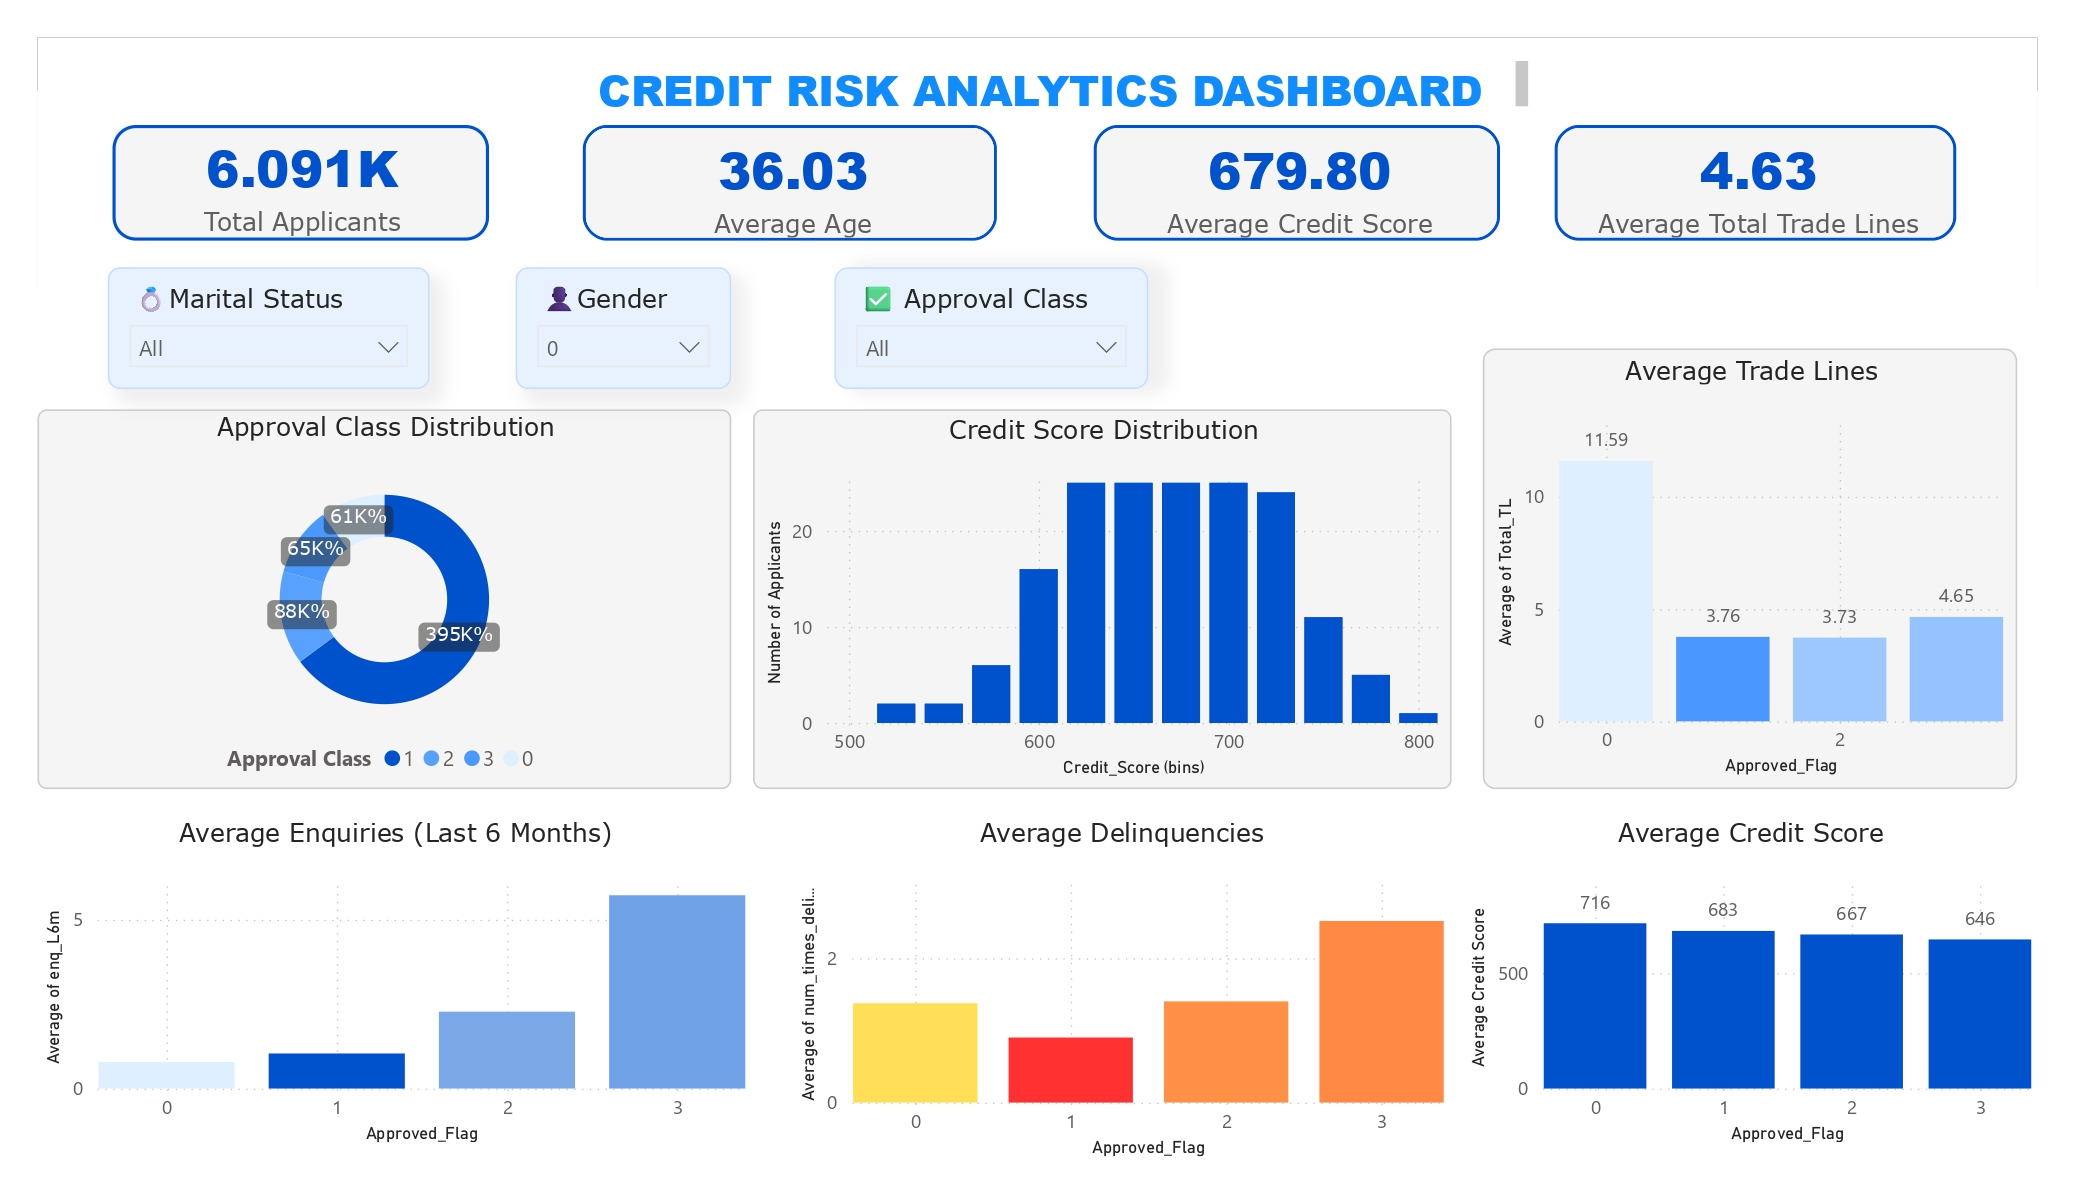

What the dashboard file says about the page in this screenshot:
{"tool":"powerbi","page":{"name":"Page 1","canvas":[1280,720],"ordinal":0},"visuals":[{"type":"cardVisual","fields":{"Data":["credit_risk_processed.Total Applicants"]},"box":[30.8,38.9,275.3,108.5],"z":0},{"type":"cardVisual","fields":{"Data":["credit_risk_processed.Average Credit Score"]},"box":[659,38.9,294.7,108.5],"z":1000},{"type":"cardVisual","fields":{"Data":["credit_risk_processed.Average Age"]},"box":[331.9,38.9,299.6,108.5],"z":2000},{"type":"cardVisual","fields":{"Data":["credit_risk_processed.Average Total Trade Lines"]},"box":[953.7,38.9,291.5,108.5],"z":3000},{"type":"donutChart","title":"Approval Class Distribution","fields":{"Category":["credit_risk_processed.Approved_Flag"],"Y":["credit_risk_processed.Applicant Count"]},"box":[0,238,443.7,242.9],"z":4000},{"type":"clusteredColumnChart","title":"Credit Score Distribution","fields":{"Category":["credit_risk_processed.Credit_Score (bins)"],"Y":["Count(credit_risk_processed.Credit_Score)"]},"box":[471.2,238,446.9,242.9],"z":5000},{"type":"clusteredColumnChart","title":"Average Trade Lines","fields":{"Category":["credit_risk_processed.Approved_Flag"],"Y":["Avg(credit_risk_processed.Total_TL)"]},"box":[939.2,199.2,341.7,281.7],"z":6000},{"type":"clusteredColumnChart","title":"Average Enquiries (Last 6 Months)","fields":{"Category":["credit_risk_processed.Approved_Flag"],"Y":["Avg(credit_risk_processed.enq_L6m)"]},"box":[0,498.7,458.2,213.7],"z":7000},{"type":"clusteredColumnChart","title":"Average Delinquencies","fields":{"Category":["credit_risk_processed.Approved_Flag"],"Y":["Avg(credit_risk_processed.num_times_delinquent)"]},"box":[482.5,498.7,422.6,221.8],"z":8000},{"type":"columnChart","title":"Average Credit Score","fields":{"Y":["credit_risk_processed.Average Credit Score"],"Category":["credit_risk_processed.Approved_Flag"]},"box":[911.6,498.7,369.2,213.7],"z":9000},{"type":"slicer","fields":{"Values":["credit_risk_processed.MARITALSTATUS"]},"box":[45.3,147.3,205.6,77.7],"z":9001},{"type":"slicer","fields":{"Values":["credit_risk_processed.GENDER"]},"box":[306,147.3,137.6,77.7],"z":9002},{"type":"slicer","fields":{"Values":["credit_risk_processed.Approved_Flag"]},"box":[510.1,147.3,200.8,77.7],"z":9003},{"type":"textbox","box":[221.8,13,731.9,37.2],"z":9004}]}

Visuals, with their boxes on the page's 1280x720 design canvas (x1, y1, x2, y2). These are canvas units, not pixel positions in the 2075x1200 screenshot, which may show the page scaled, cropped or inside an application window:
cardVisual - credit_risk_processed.Total Applicants: 31/39/306/147
cardVisual - credit_risk_processed.Average Credit Score: 659/39/954/147
cardVisual - credit_risk_processed.Average Age: 332/39/632/147
cardVisual - credit_risk_processed.Average Total Trade Lines: 954/39/1245/147
"Approval Class Distribution" donutChart: 0/238/444/481
"Credit Score Distribution" clusteredColumnChart: 471/238/918/481
"Average Trade Lines" clusteredColumnChart: 939/199/1281/481
"Average Enquiries (Last 6 Months)" clusteredColumnChart: 0/499/458/712
"Average Delinquencies" clusteredColumnChart: 482/499/905/720
"Average Credit Score" columnChart: 912/499/1281/712
slicer - credit_risk_processed.MARITALSTATUS: 45/147/251/225
slicer - credit_risk_processed.GENDER: 306/147/444/225
slicer - credit_risk_processed.Approved_Flag: 510/147/711/225
textbox: 222/13/954/50
